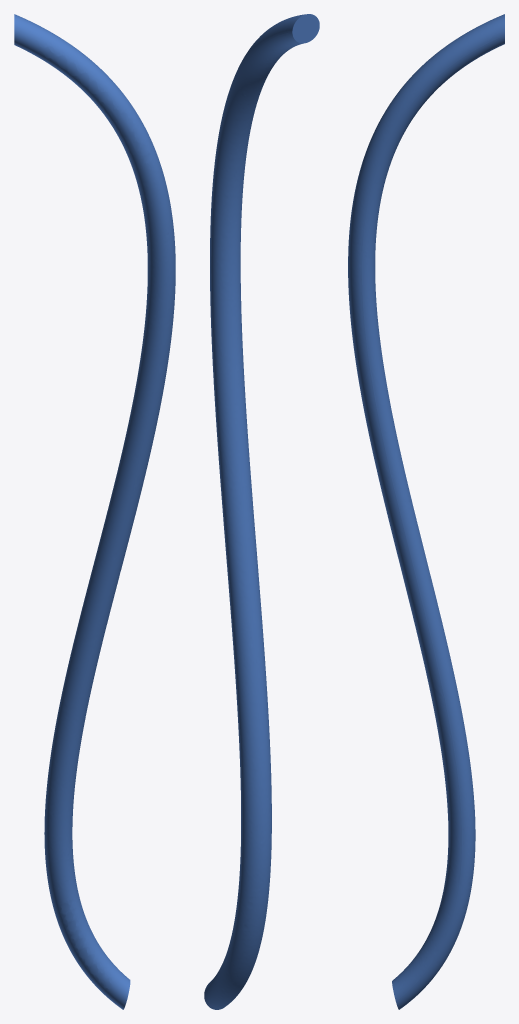
The model's file is motor_lead_blue.glb.
The picture shows the model from 3 angles, left to right: view 1: azimuth 90°, elevation 25°; view 2: azimuth 210°, elevation 25°; view 3: azimuth 270°, elevation 25°; orthographic projection. The views are drawn at different scales.
Parts seen in each view (by area): view 1: geometry_0; view 2: geometry_0; view 3: geometry_0.
Boxes of the visible parts, x1=… form: geometry_0: x1=14, y1=14, x2=175, y2=1009; geometry_0: x1=204, y1=14, x2=319, y2=1009; geometry_0: x1=348, y1=14, x2=504, y2=1009.
Size of the model in its own units: 3.42 by 57.38 by 8.34.
